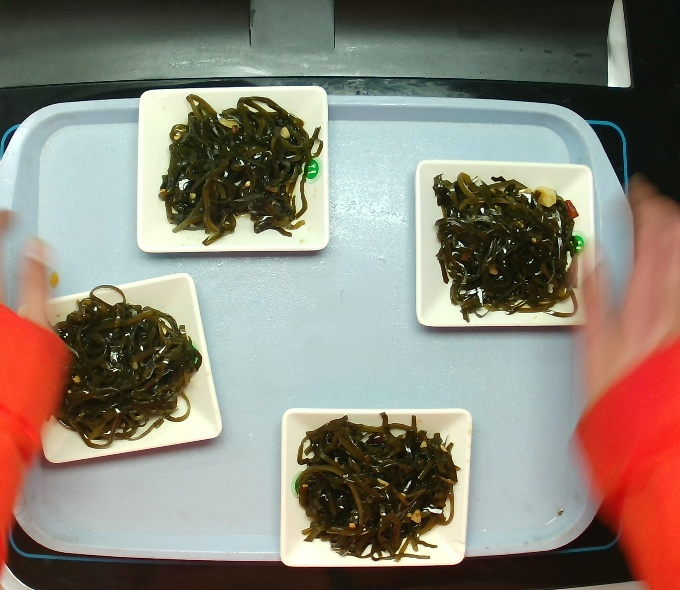wcq-LiangBanHaiDai: (155, 82, 325, 250), (285, 415, 465, 554), (426, 164, 584, 316), (50, 293, 199, 445)
